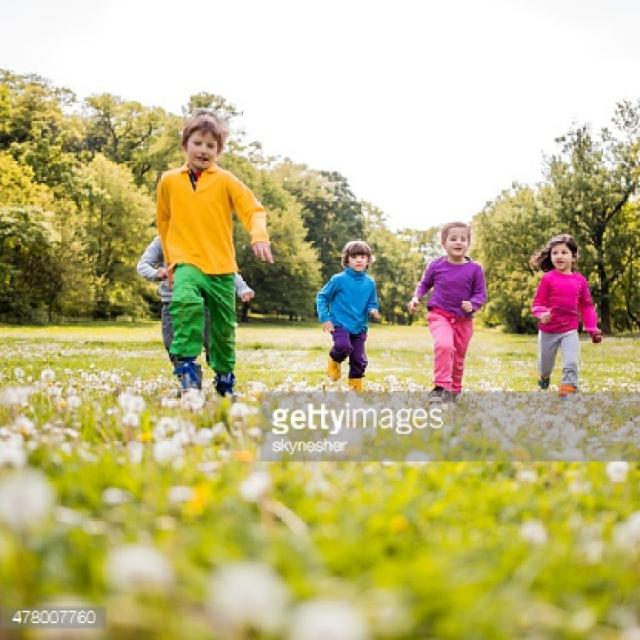body: (152, 111, 277, 414), (134, 231, 258, 394), (405, 218, 489, 404), (529, 229, 608, 400), (313, 237, 382, 403)
